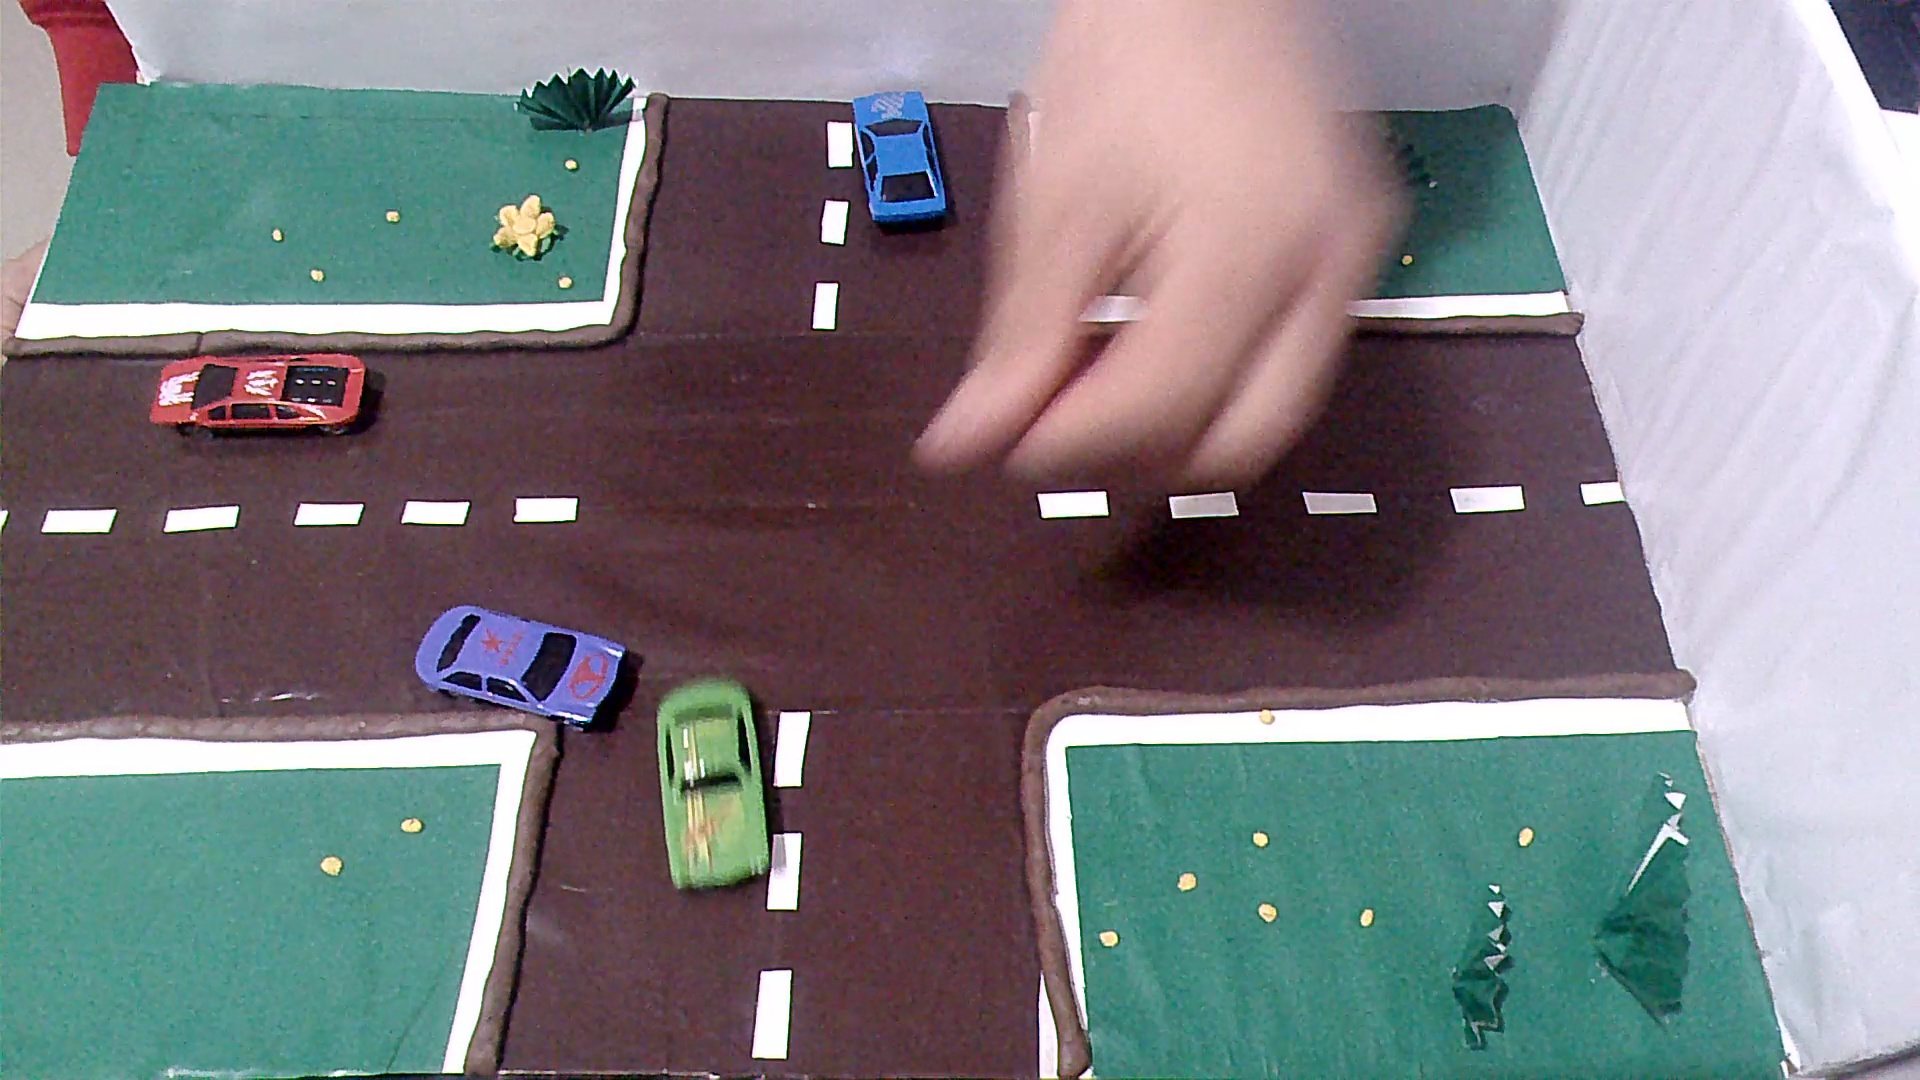car: (413, 604, 624, 735), (654, 673, 778, 891), (149, 353, 367, 436), (847, 88, 949, 225)
